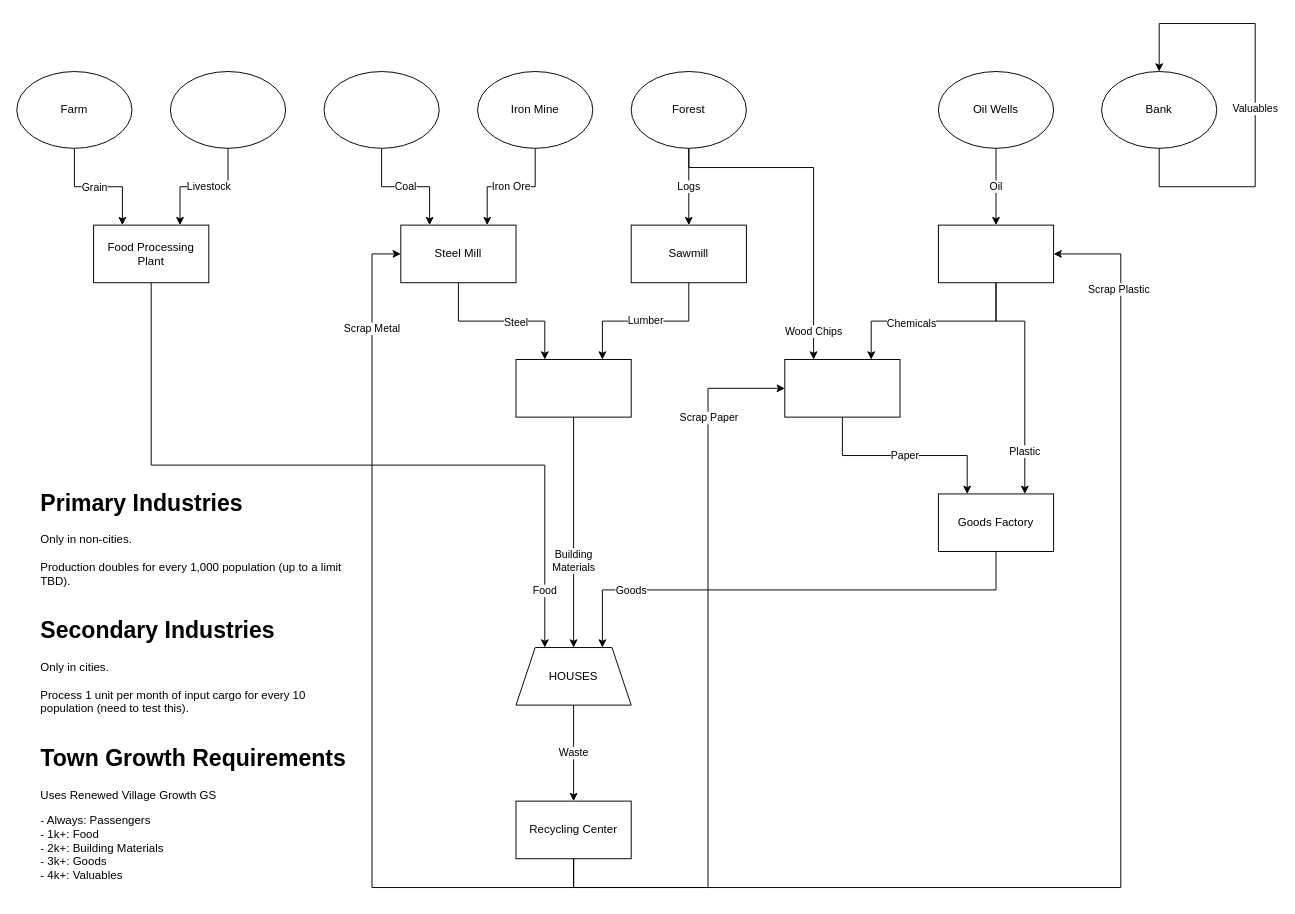
Some shapes in this 1295 by 914 pixel diagram are drawn without their labels. The centre of each missing label's shape, as x and y in pixels:
"Building Materials Factory" belongs at [573,388].
"Coal Mine" belongs at [381,109].
"Oil Refinery" belongs at [995,253].
"Paper Mill" belongs at [842,388].
"Ranch" belongs at [227,109].
